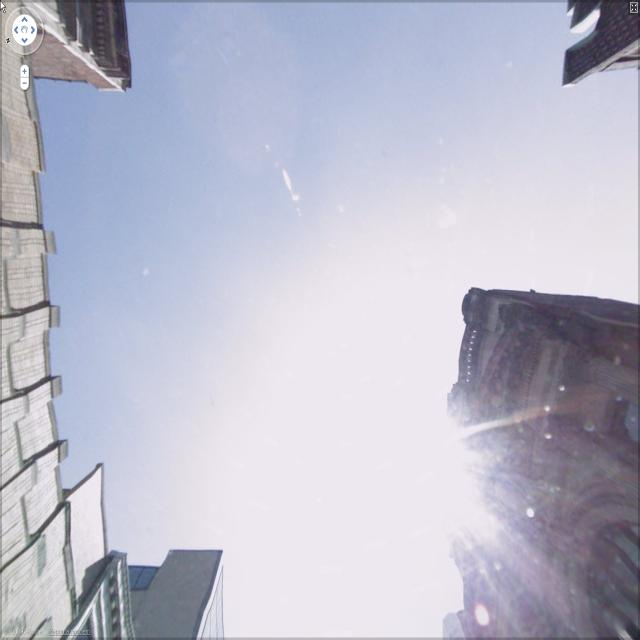b_1: (2, 94, 224, 640), (437, 264, 640, 626), (0, 1, 152, 85), (553, 7, 633, 95)
